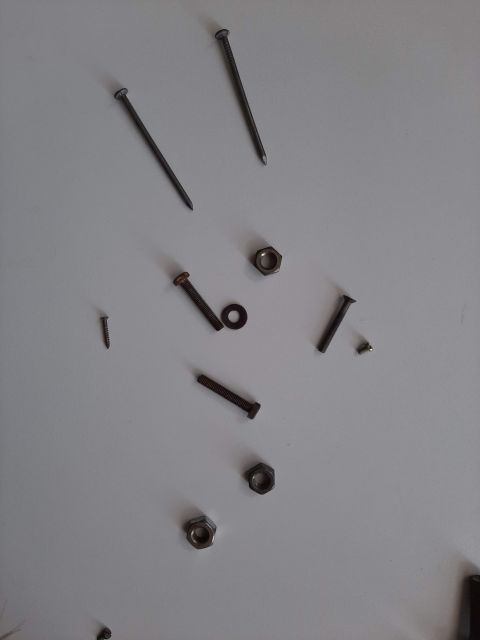gwozdz: (185, 5, 295, 175), (95, 65, 205, 215)
nakretka: (155, 505, 235, 565), (215, 445, 295, 505), (245, 235, 295, 275)
podkladka: (215, 295, 265, 325)
sruba: (305, 275, 385, 355), (175, 355, 275, 415), (155, 265, 215, 325)
